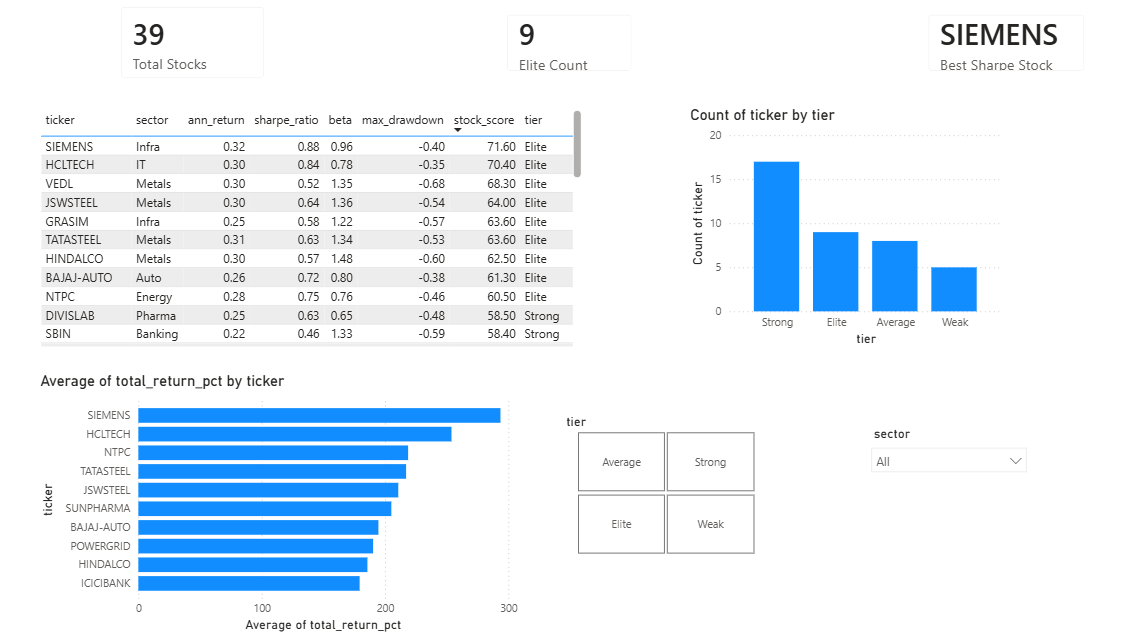

The dashboard page shown, as its layout file describes it:
{"tool":"powerbi","page":{"name":"Page 4","canvas":[1280,720],"ordinal":3},"visuals":[{"type":"tableEx","fields":{"Values":["stock_metrics.ticker","stock_metrics.sector","stock_metrics.ann_return","stock_metrics.sharpe_ratio","stock_metrics.beta","stock_metrics.max_drawdown","stock_metrics.stock_score","stock_metrics.tier"]},"box":[43.3,127.1,614.3,273.6],"z":0},{"type":"clusteredColumnChart","fields":{"Category":["stock_metrics.tier"],"Y":["CountNonNull(stock_metrics.ticker)"]},"box":[769.3,127.1,358.8,273.6],"z":1},{"type":"clusteredBarChart","fields":{"Category":["stock_metrics.ticker"],"Y":["Avg(stock_metrics.total_return_pct)"]},"box":[43.3,424.4,543.1,296],"z":2},{"type":"cardVisual","fields":{"Data":["stock_metrics.Total Stocks"]},"box":[121.5,0,194.1,113.1],"z":3},{"type":"cardVisual","fields":{"Data":["stock_metrics.Elite Count"]},"box":[552.9,8.4,173.1,97.7],"z":4},{"type":"cardVisual","fields":{"Data":["stock_metrics.Best Sharpe Stock"]},"box":[1023.4,8.4,208,97.7],"z":5},{"type":"slicer","fields":{"Values":["stock_metrics.tier"]},"box":[622.7,466.3,247.1,167.5],"z":6},{"type":"slicer","fields":{"Values":["stock_metrics.sector"]},"box":[966.1,480.3,194.1,153.6],"z":7}]}

Visuals, with their boxes in screenshot pixels (x1, y1, x2, y2), scaled from the page's 1280x720 canvas onto the 1136x635 screenshot:
tableEx - stock_metrics.ticker x stock_metrics.sector: left=38, top=112, right=584, bottom=353
clusteredColumnChart - stock_metrics.tier x CountNonNull(stock_metrics.ticker): left=683, top=112, right=1001, bottom=353
clusteredBarChart - stock_metrics.ticker x Avg(stock_metrics.total_return_pct): left=38, top=374, right=520, bottom=634
cardVisual - stock_metrics.Total Stocks: left=108, top=0, right=280, bottom=100
cardVisual - stock_metrics.Elite Count: left=491, top=7, right=644, bottom=94
cardVisual - stock_metrics.Best Sharpe Stock: left=908, top=7, right=1093, bottom=94
slicer - stock_metrics.tier: left=553, top=411, right=772, bottom=559
slicer - stock_metrics.sector: left=857, top=424, right=1030, bottom=559
